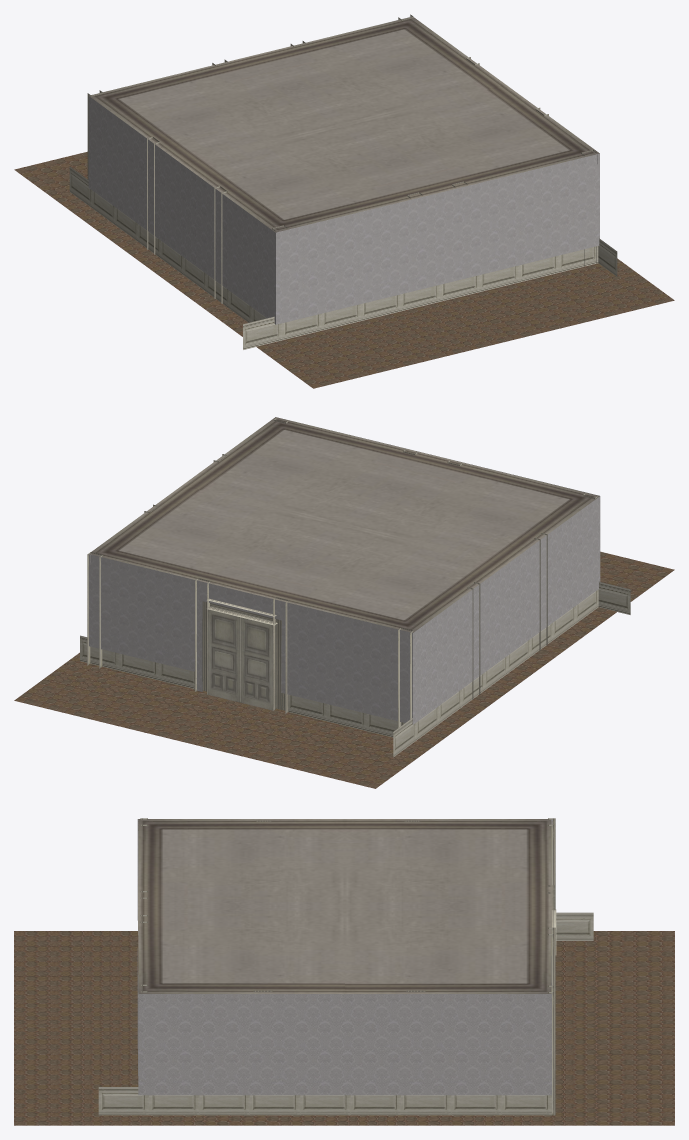
The model's file is interior_mansion_gov.fbx.
3 views of the same model, one above another, from view 1: azimuth 30°, elevation 25°; view 2: azimuth 150°, elevation 25°; view 3: azimuth 270°, elevation 25° (orthographic). The views are drawn at different scales.
Visible parts, largest first — view 1: ceiling, walls, floor, columns; view 2: ceiling, walls, floor, columns, door_right, door_left, door_frame; view 3: ceiling, walls, floor, columns.
Boxes of the visible parts, left/top/right/bottom form: ceiling: left=89, top=17, right=599, bottom=232; walls: left=69, top=16, right=617, bottom=349; floor: left=14, top=151, right=674, bottom=388; columns: left=87, top=14, right=596, bottom=303; ceiling: left=90, top=417, right=599, bottom=632; walls: left=80, top=424, right=630, bottom=757; floor: left=14, top=551, right=674, bottom=788; columns: left=87, top=417, right=598, bottom=727; door_right: left=207, top=609, right=240, bottom=702; door_left: left=240, top=617, right=272, bottom=710; door_frame: left=207, top=598, right=278, bottom=625; ceiling: left=138, top=819, right=551, bottom=993; walls: left=98, top=819, right=593, bottom=1115; floor: left=14, top=931, right=674, bottom=1125; columns: left=140, top=818, right=555, bottom=1115.
Size of the model in its own units: 4620 by 1317 by 6393.
1 material, 1 textured.
